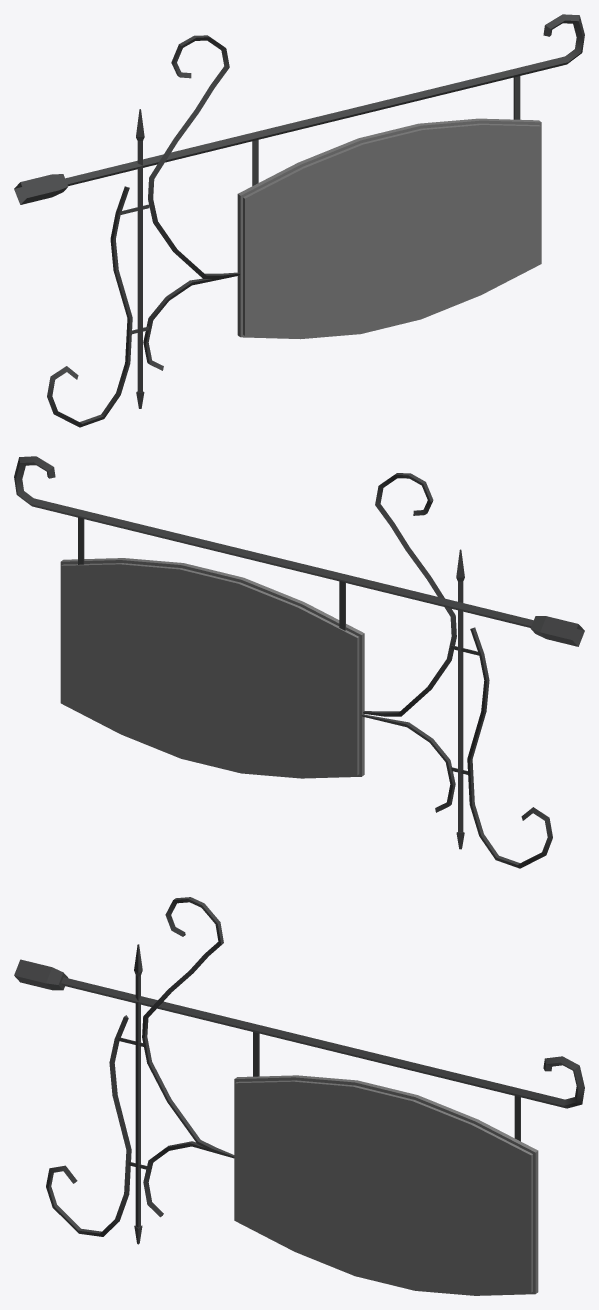
Rendered from SM_storesign_03.fbx.
3 views of the same model, one above another, from view 1: azimuth 30°, elevation 25°; view 2: azimuth 150°, elevation 25°; view 3: azimuth 330°, elevation 25° (orthographic).
Visible parts, largest first — view 1: Object091; view 2: Object091; view 3: Object091.
Part boxes in pixels (box(x1,y1,x2,y2)): Object091: box(14, 14, 584, 427); Object091: box(14, 456, 584, 868); Object091: box(14, 897, 584, 1295).
Bounding box in the file's own units: 71.52 × 2.79 × 44.19.
